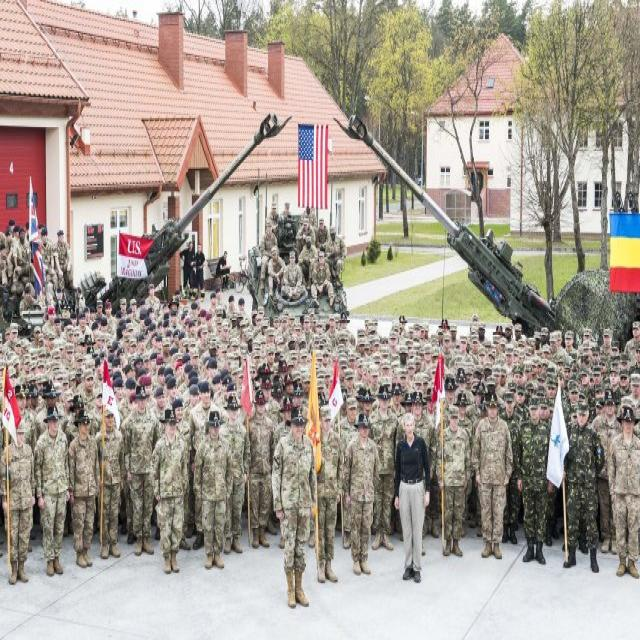body: (0, 281, 640, 440), (269, 405, 319, 610), (558, 398, 606, 574), (469, 390, 514, 561), (512, 395, 555, 565), (396, 390, 439, 558), (340, 410, 382, 577), (192, 408, 235, 570), (148, 407, 189, 576), (122, 383, 162, 556), (240, 388, 282, 550), (393, 411, 432, 585), (32, 402, 70, 577), (187, 377, 222, 552), (604, 404, 639, 578), (65, 407, 102, 568), (0, 417, 35, 586), (435, 402, 472, 558), (590, 389, 624, 556), (559, 399, 595, 555), (219, 394, 253, 556), (91, 406, 126, 560), (316, 404, 345, 586), (370, 383, 400, 553), (0, 217, 78, 281), (497, 389, 525, 544), (335, 395, 360, 552), (260, 202, 328, 254), (171, 398, 193, 553), (181, 381, 202, 540), (539, 395, 559, 547), (8, 383, 38, 456), (434, 374, 461, 448), (257, 218, 278, 304), (34, 383, 66, 438), (308, 250, 337, 310), (37, 226, 58, 302), (280, 248, 307, 301), (52, 227, 73, 292), (178, 239, 197, 302), (323, 226, 346, 278), (272, 394, 294, 448), (64, 399, 91, 443), (451, 392, 473, 446), (260, 375, 281, 426), (267, 244, 287, 296), (86, 386, 106, 438), (150, 383, 176, 423), (352, 387, 377, 428), (117, 376, 139, 420), (560, 378, 583, 418), (324, 251, 351, 283), (628, 371, 640, 438), (214, 248, 231, 293), (294, 218, 317, 250), (394, 392, 414, 428), (422, 386, 437, 428), (194, 244, 207, 292), (299, 234, 319, 262), (10, 224, 21, 246)
